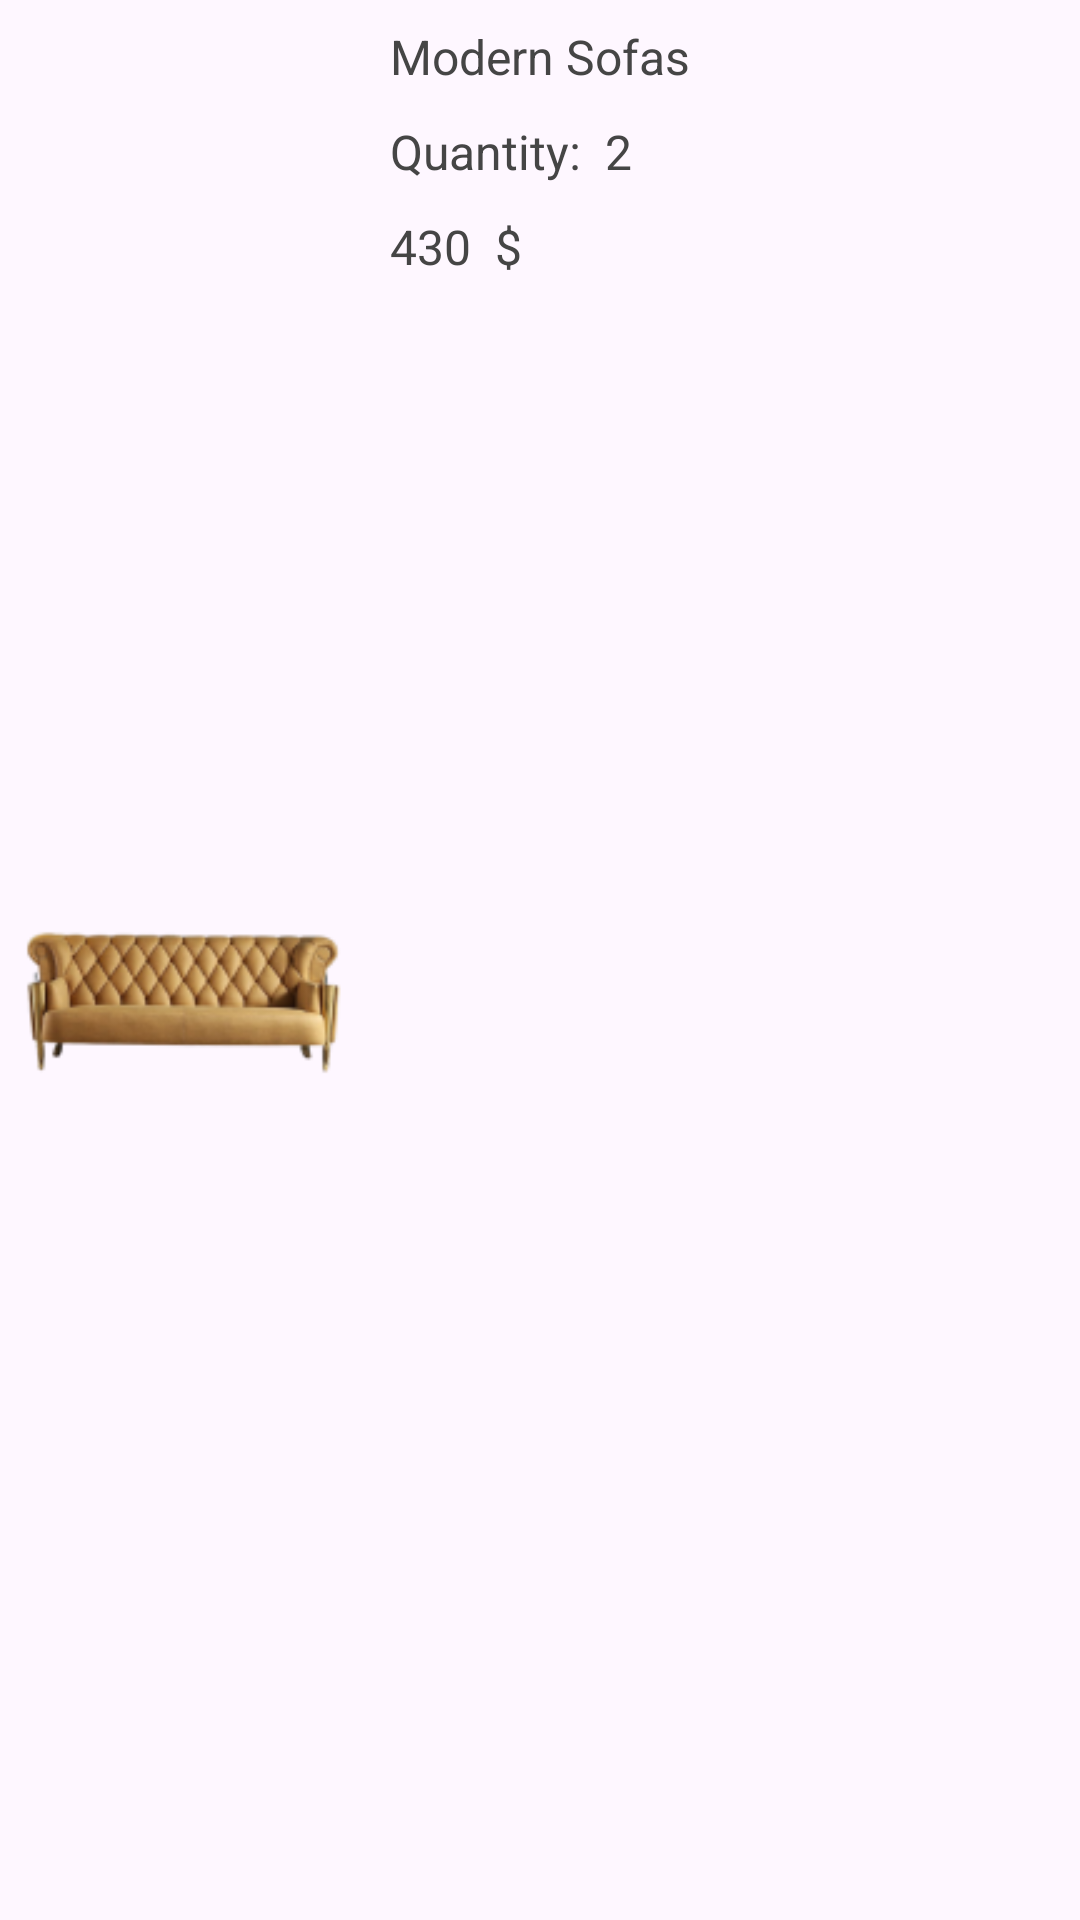

Locate icon controls on the screen. Image size 1080 x 1920, boxes as bbox(x1, y1, x2, y2).
sofa: bbox(27, 932, 340, 1073)
